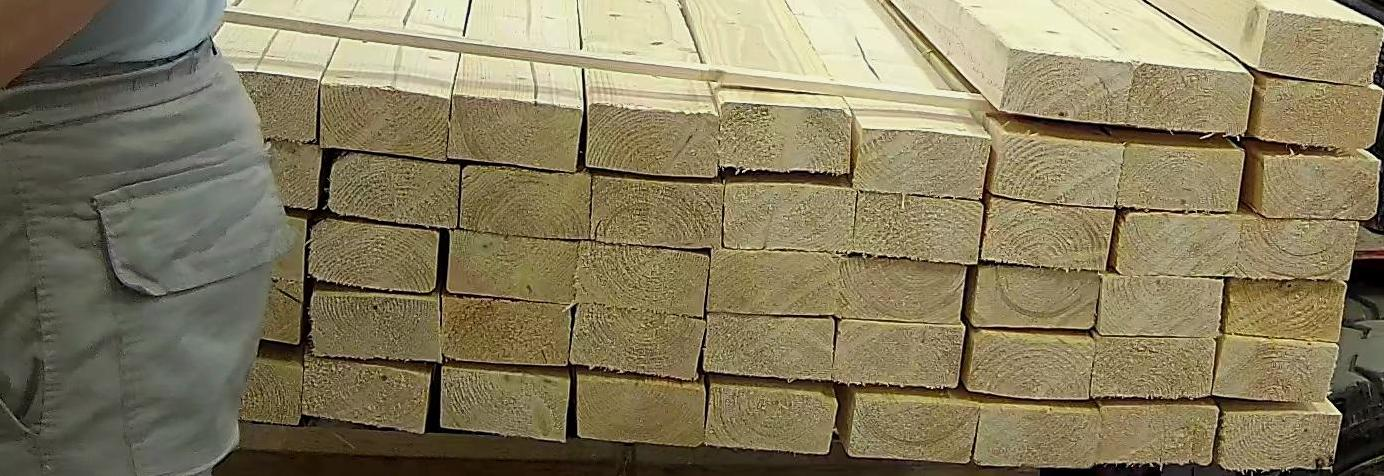Wood-Plank: (154, 132, 320, 208), (158, 66, 320, 142), (148, 346, 302, 425), (160, 202, 307, 281), (148, 274, 301, 345), (320, 79, 447, 164), (308, 284, 441, 361), (439, 362, 570, 440), (570, 303, 706, 378), (982, 195, 1118, 270), (589, 99, 718, 178), (327, 151, 460, 227), (302, 355, 431, 433), (575, 241, 709, 316), (993, 132, 1127, 206), (855, 129, 989, 203), (307, 216, 439, 291), (576, 369, 706, 445), (705, 379, 835, 455), (459, 163, 591, 237), (446, 229, 579, 302), (1002, 49, 1132, 123), (450, 97, 580, 171), (963, 327, 1096, 399), (593, 173, 724, 246), (1257, 10, 1384, 85), (853, 191, 985, 263), (723, 104, 851, 176), (833, 318, 966, 387), (726, 179, 857, 249), (442, 293, 571, 364), (708, 247, 839, 315), (848, 397, 978, 465), (705, 312, 836, 379), (838, 255, 967, 323), (966, 263, 1102, 327), (974, 400, 1103, 466), (1123, 143, 1244, 213), (1113, 210, 1243, 275), (1215, 333, 1341, 400), (1132, 63, 1252, 133), (1098, 271, 1224, 336), (1094, 334, 1217, 399), (1238, 218, 1362, 282), (1224, 278, 1349, 341), (1262, 79, 1379, 146), (1099, 400, 1221, 464), (1260, 152, 1378, 216), (1225, 410, 1342, 470)
